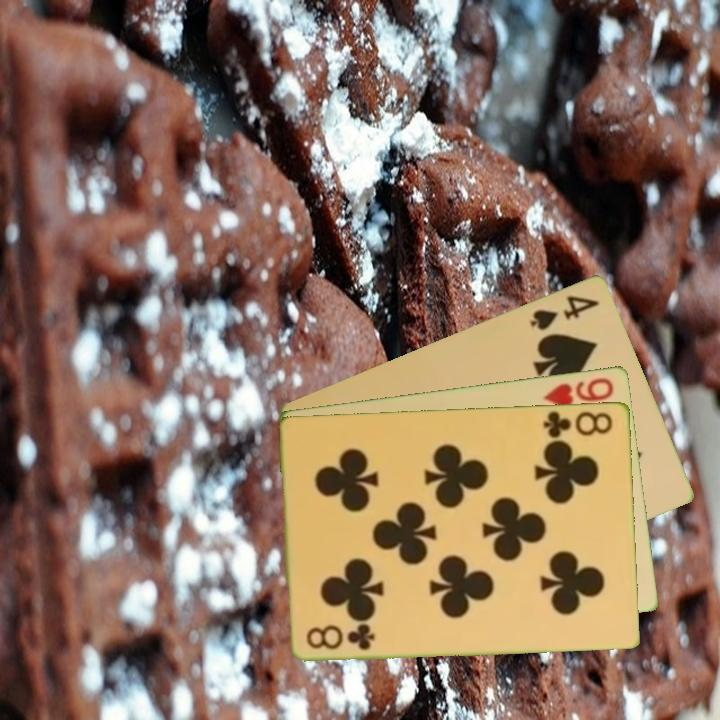4s: (526, 291, 603, 333)
8c: (540, 407, 616, 441), (303, 621, 378, 653)
9h: (541, 373, 617, 409)
